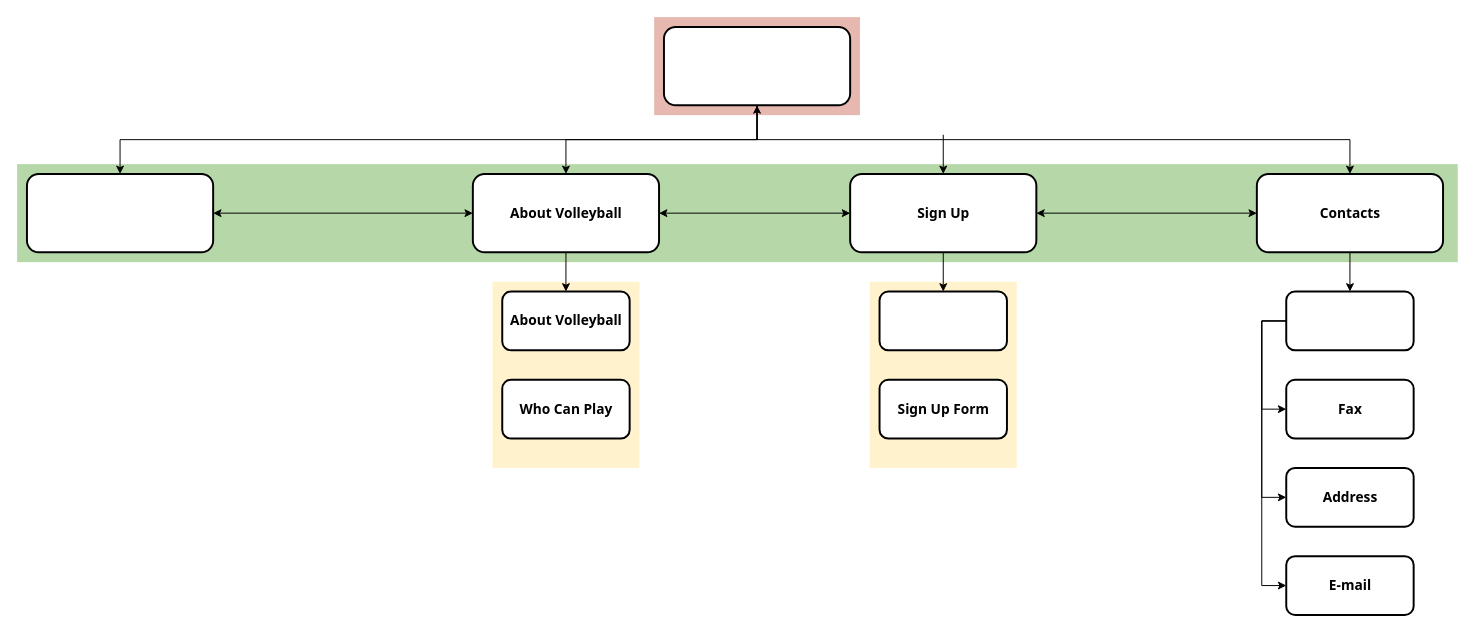
The diagram is 1474 pixels wide and 632 high, and some of its shapes have lost their labels. Each missing label, with the box of its shape:
Announcements: (25, 172, 214, 253)
Home: (662, 25, 851, 106)
Phone: (1285, 290, 1414, 351)
Playing Guidlines: (878, 290, 1007, 351)
